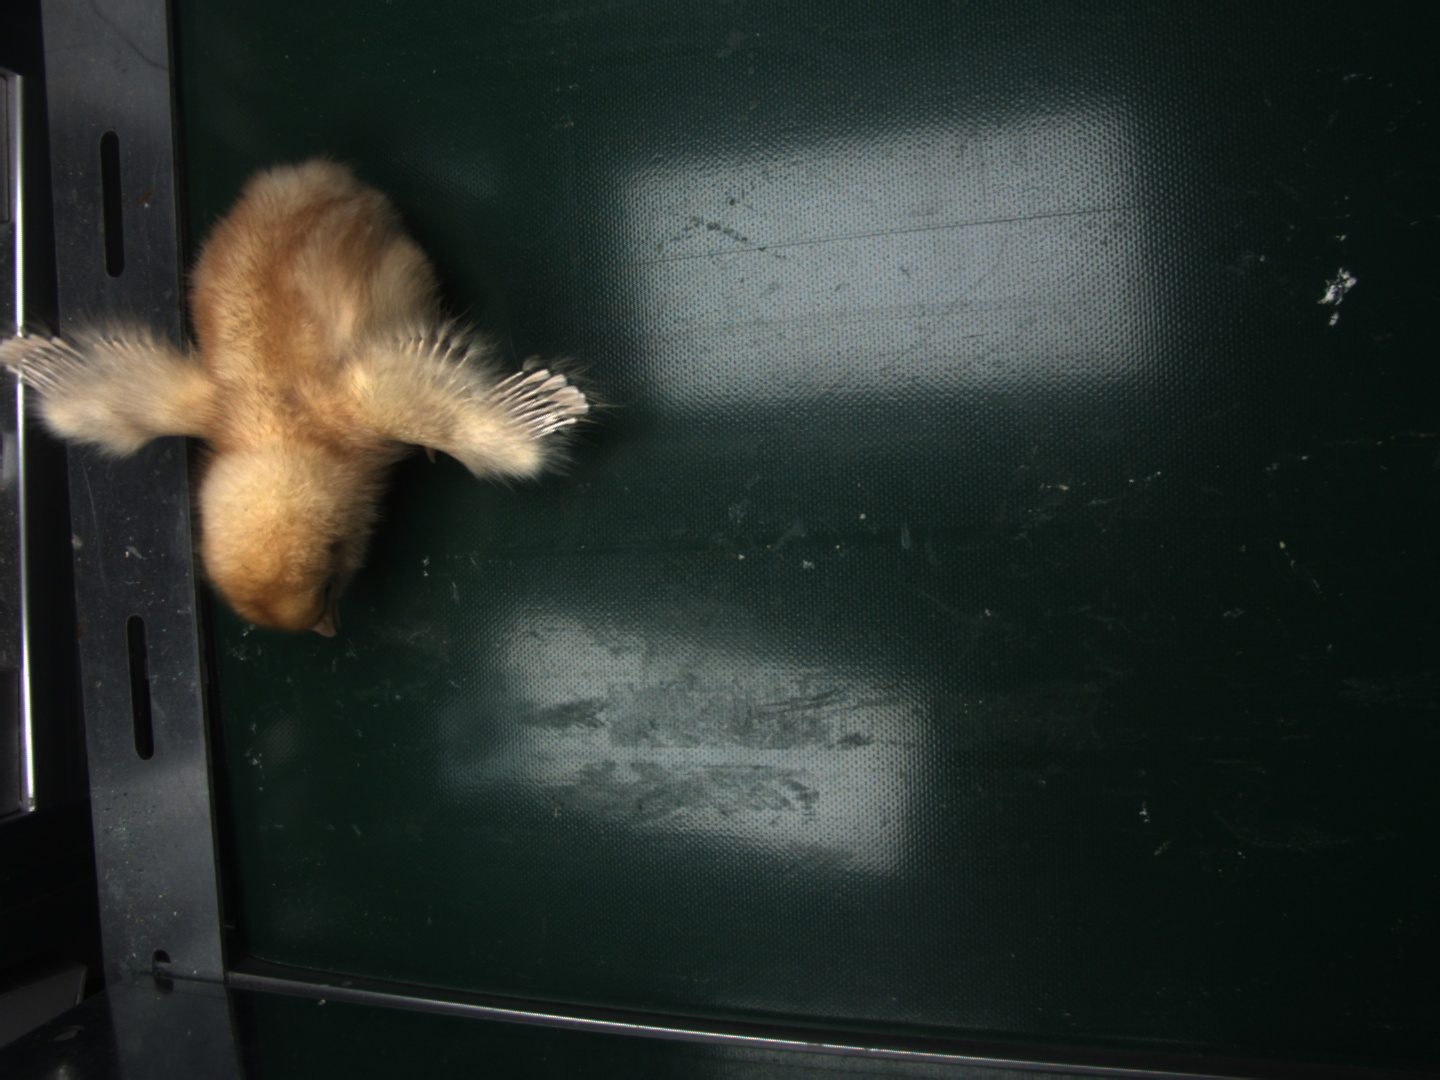female: (493, 369, 591, 434)
